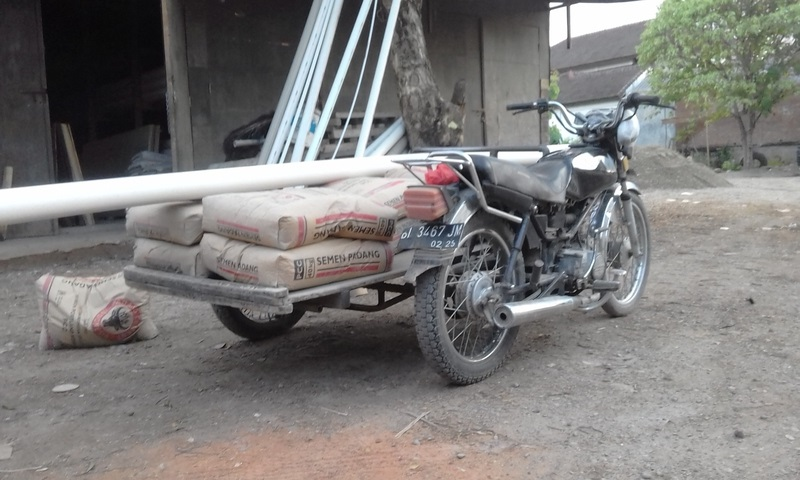becak barang: (118, 91, 679, 390)
